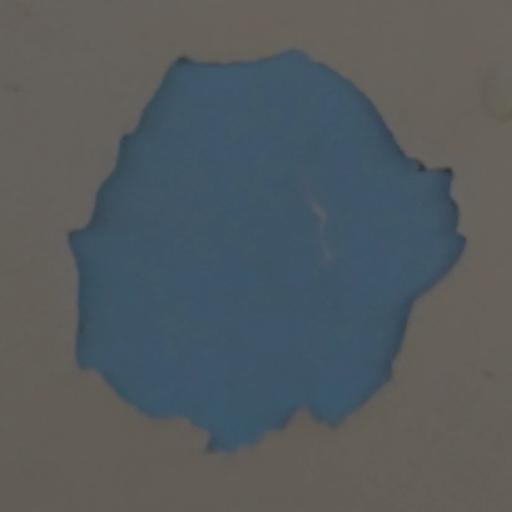peeling: (63, 34, 469, 471)
